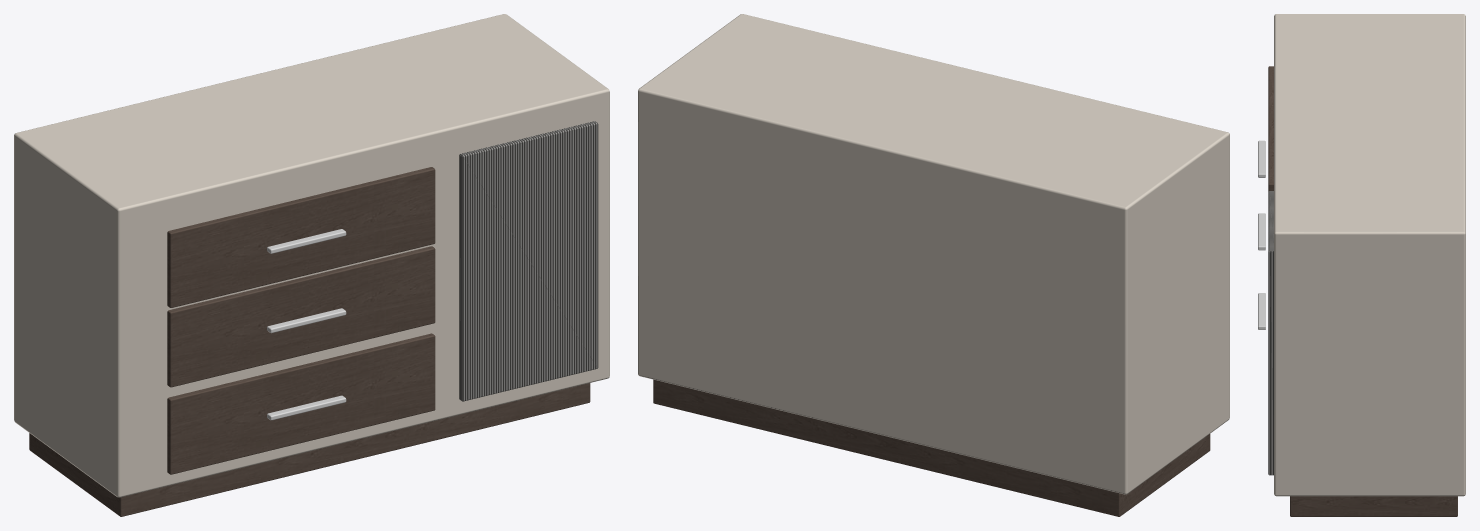
The model's file is talya-bedset-with-wardrobe--dresser.glb.
3 renders of one model, left to right at view 1: azimuth 30°, elevation 25°; view 2: azimuth 150°, elevation 25°; view 3: azimuth 270°, elevation 25°, orthographic. The views are drawn at different scales.
Parts seen in each view (by area): view 1: body, stripes, dr0, dr1, dr2, plinth, pull0, pull2, pull1; view 2: body, plinth; view 3: body, plinth, stripes, dr2, pull1, pull2, pull0.
Boxes of the visible parts, bbox=[...] form: body: bbox=[14, 14, 609, 497]; stripes: bbox=[459, 121, 598, 401]; dr0: bbox=[167, 333, 435, 474]; dr1: bbox=[167, 246, 435, 387]; dr2: bbox=[167, 167, 435, 307]; plinth: bbox=[29, 383, 590, 516]; pull0: bbox=[267, 395, 346, 420]; pull2: bbox=[267, 229, 346, 253]; pull1: bbox=[267, 308, 346, 333]; body: bbox=[638, 14, 1229, 494]; plinth: bbox=[653, 379, 1210, 516]; body: bbox=[1274, 14, 1465, 496]; plinth: bbox=[1290, 496, 1457, 516]; stripes: bbox=[1268, 191, 1273, 475]; dr2: bbox=[1268, 66, 1273, 191]; pull1: bbox=[1258, 213, 1265, 250]; pull2: bbox=[1258, 140, 1265, 177]; pull0: bbox=[1258, 293, 1265, 329].
Bounding box in the file's own units: 1.3 × 0.8 × 0.52.
Materials: 4 (2 with a texture image).
